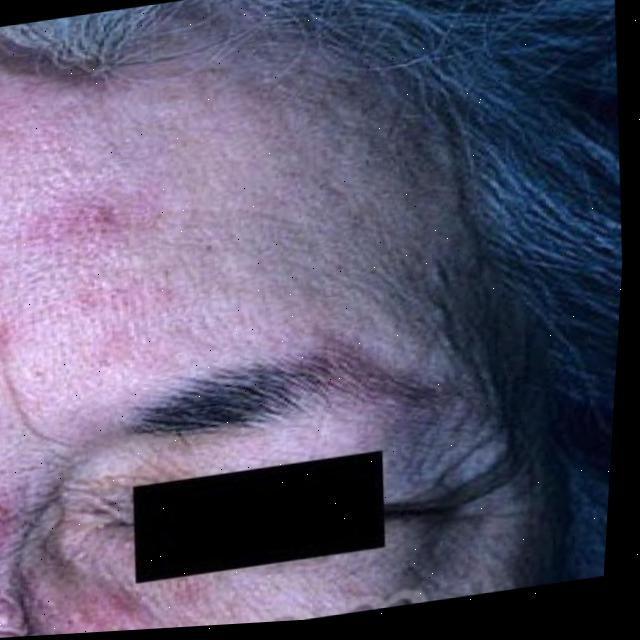Rosacea: (0, 74, 229, 380), (71, 585, 152, 634), (0, 497, 18, 576)
